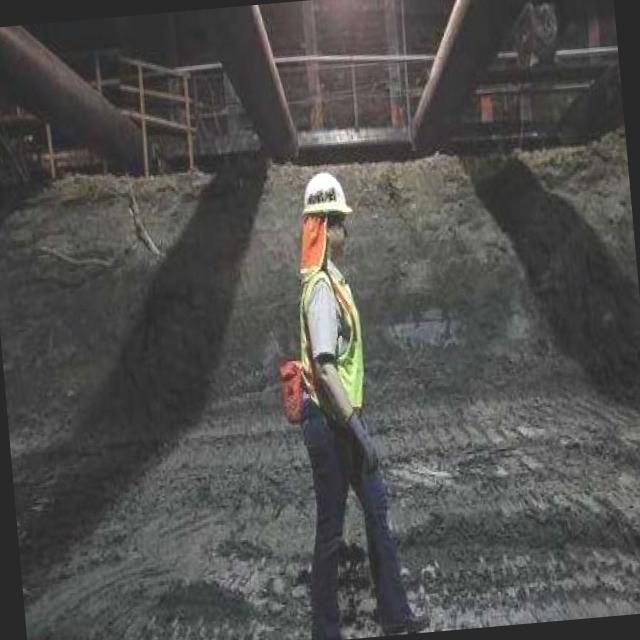helmet: (295, 166, 363, 235)
vest: (291, 260, 368, 410)
